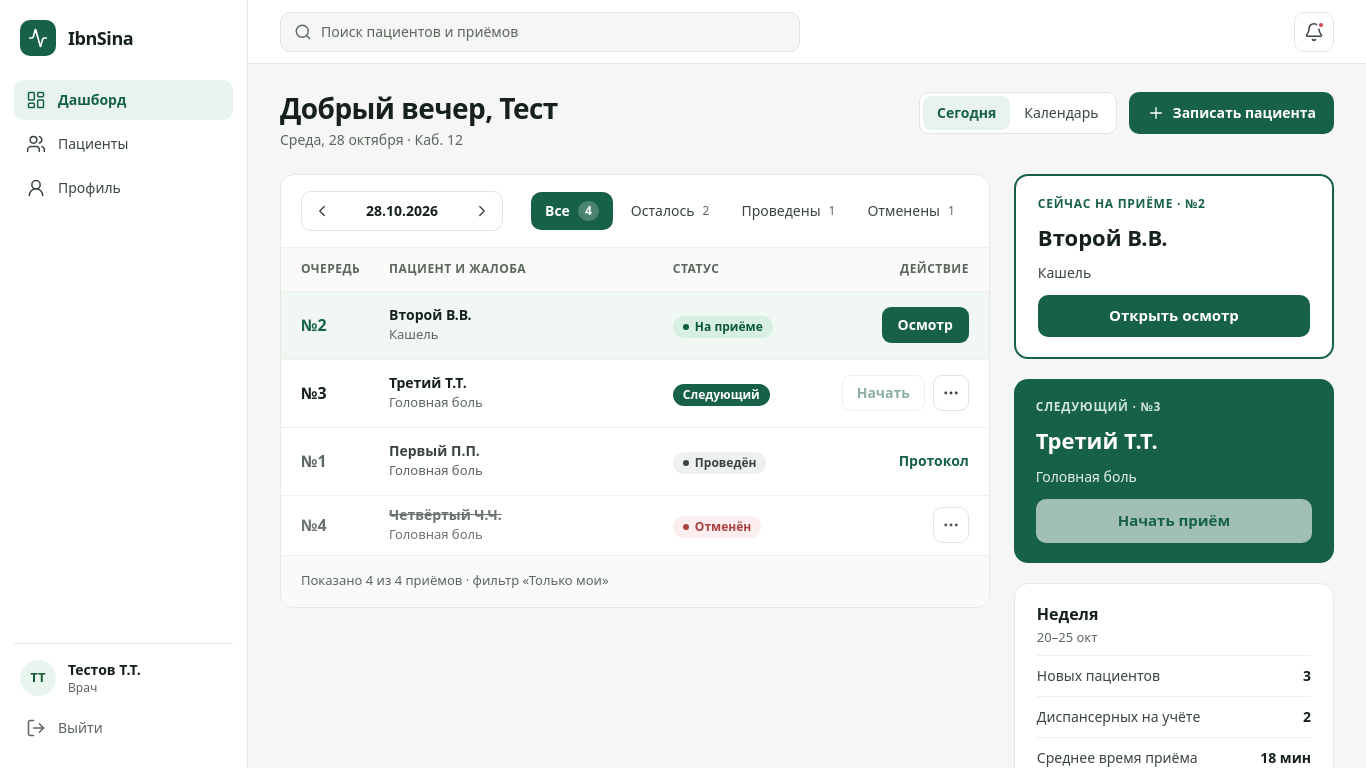
Test case: дашборд (вместе с бывшими «Приёмами») › вкладки переключают список; «Осталось» = на приёме + записан + следующий
This screenshot has width=1366, height=768.
Expected: the text "Первый П.П." is shown, [389, 441, 480, 460]
Click the tab "Осталось 2". click: (670, 211)
box: [617, 192, 724, 230]
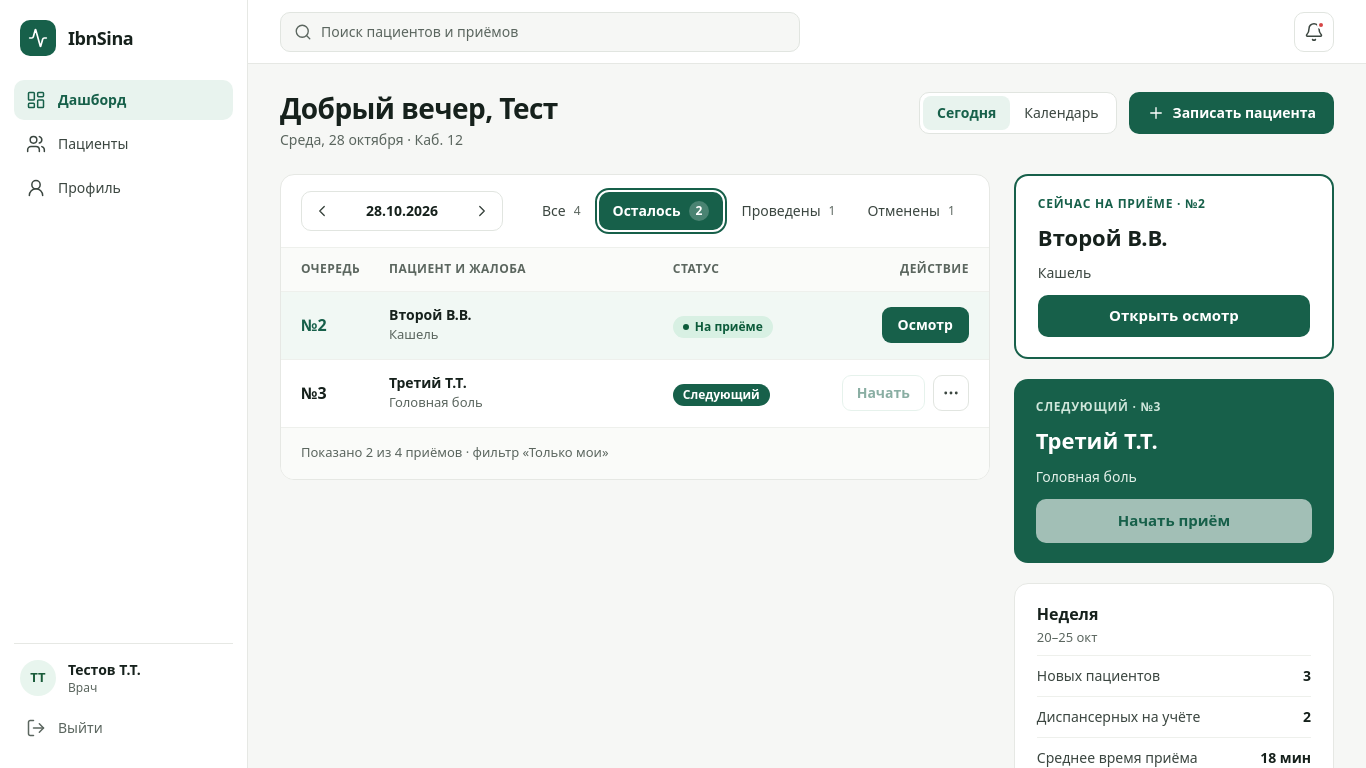
Expected: the text "На приёме" is shown, [673, 316, 773, 338]
Expected: the text "Первый П.П." is gone
Click the tab "Отменены 1". click: (911, 211)
box: [853, 192, 969, 230]
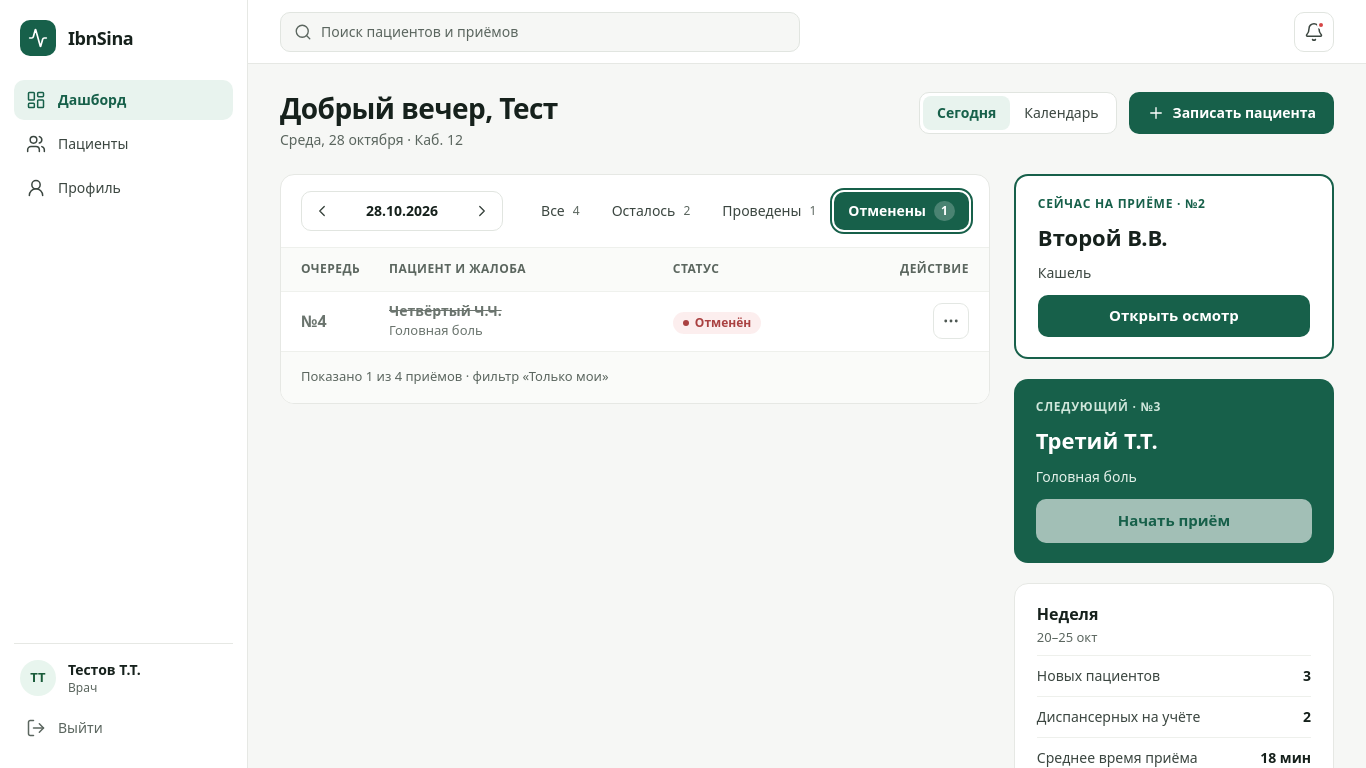
Expected: the text "Четвёртый Ч.Ч." is shown, [389, 301, 502, 320]
Expected: the text "Показано 1 из 4 приёмов · фильтр «Только мои»" is shown, [281, 351, 989, 403]
